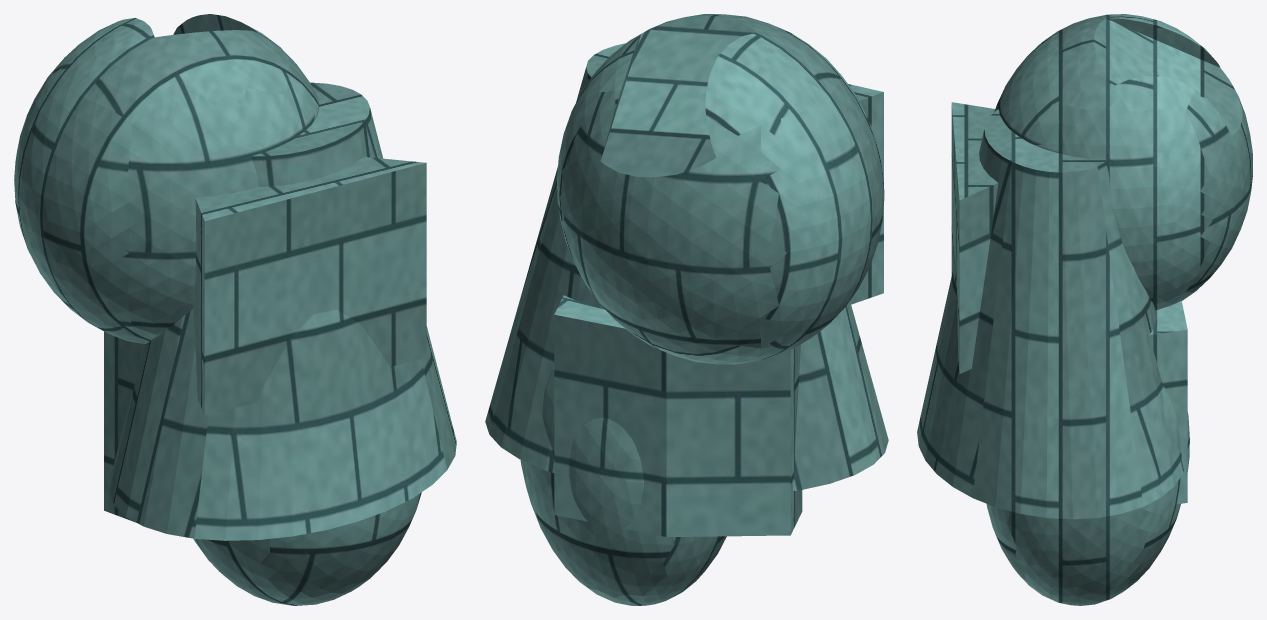
3 views of the same model, side by side, from view 1: azimuth 30°, elevation 25°; view 2: azimuth 150°, elevation 25°; view 3: azimuth 270°, elevation 25° (orthographic). The views are drawn at different scales.
Parts seen in each view (by area): view 1: geometry_0; view 2: geometry_0; view 3: geometry_0.
Boxes of the visible parts, box(x1,y1,x2,y2) form: geometry_0: box(14, 14, 456, 605); geometry_0: box(485, 14, 888, 605); geometry_0: box(917, 14, 1252, 605).
Bounding box in the file's own units: 1.47 × 2.17 × 1.26.
1 material, 1 textured.
